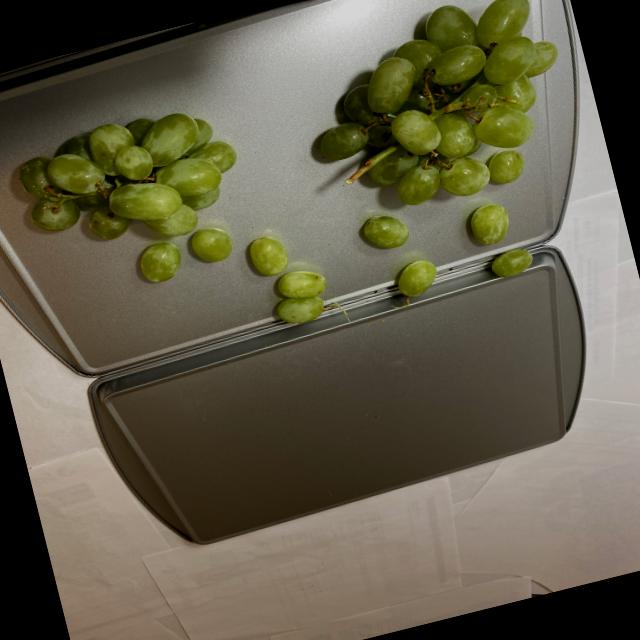grapes: (0, 10, 607, 387)
